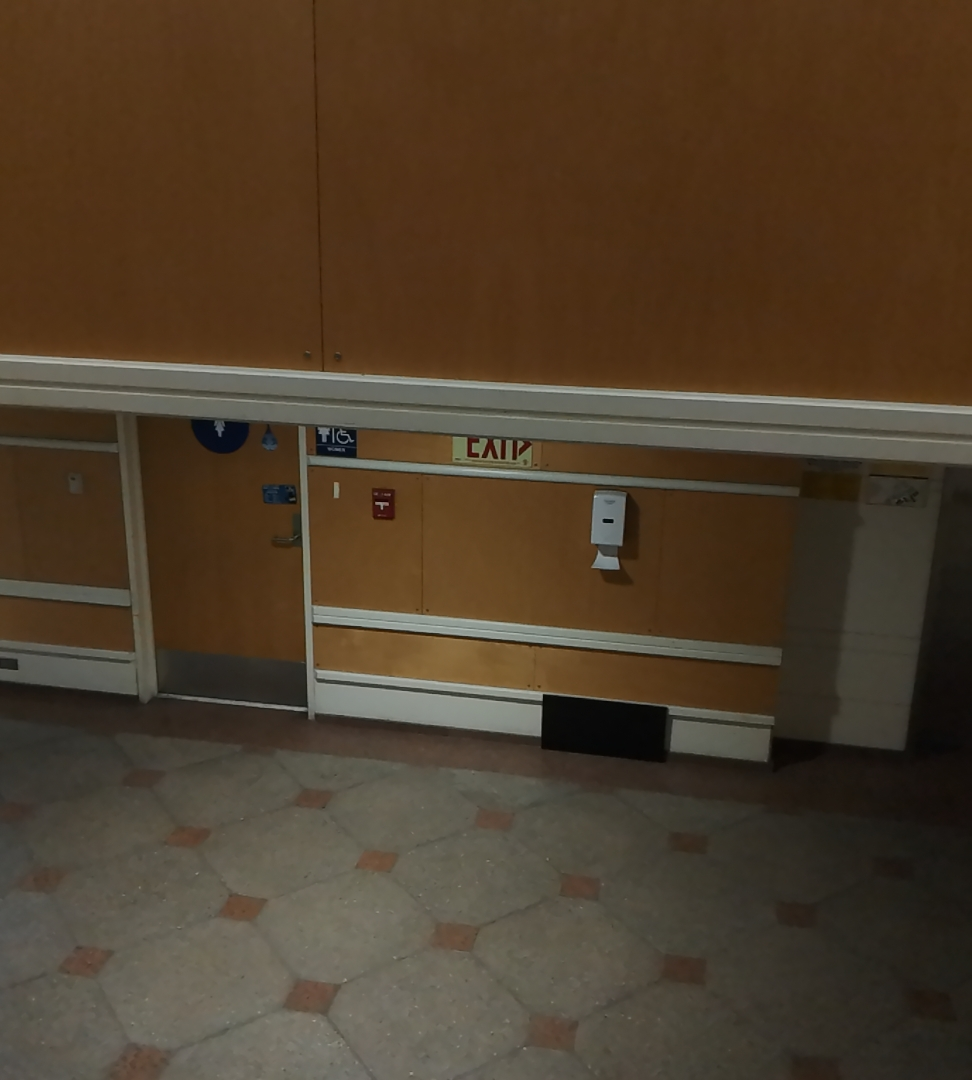emergency_exit: (449, 432, 540, 470)
